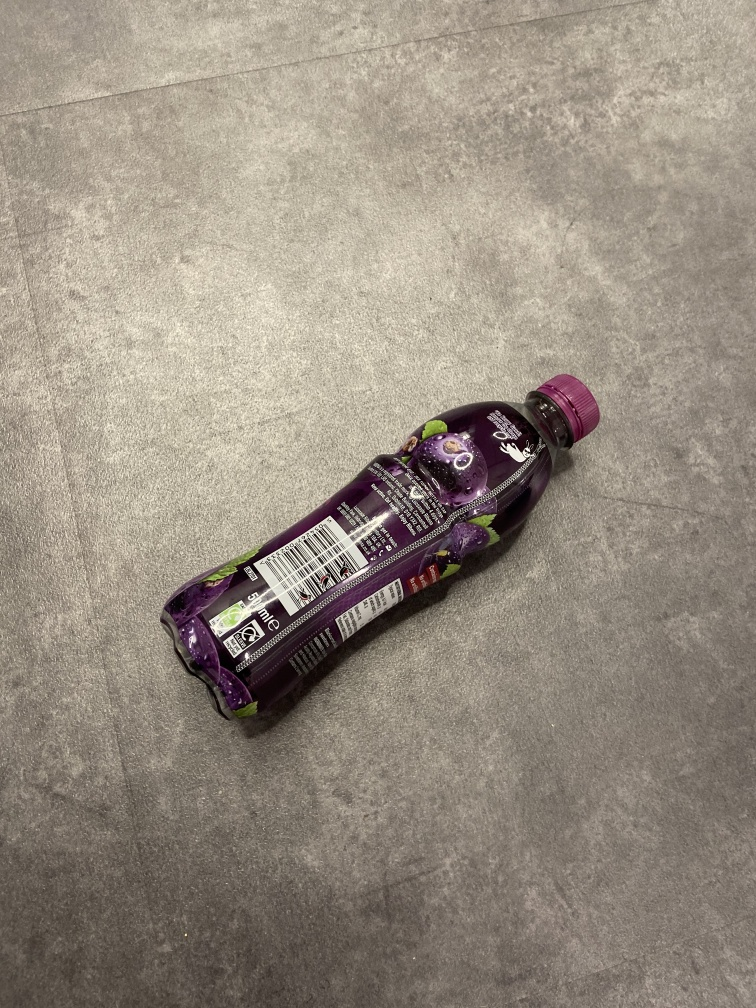bottle_purple: (158, 371, 605, 725)
